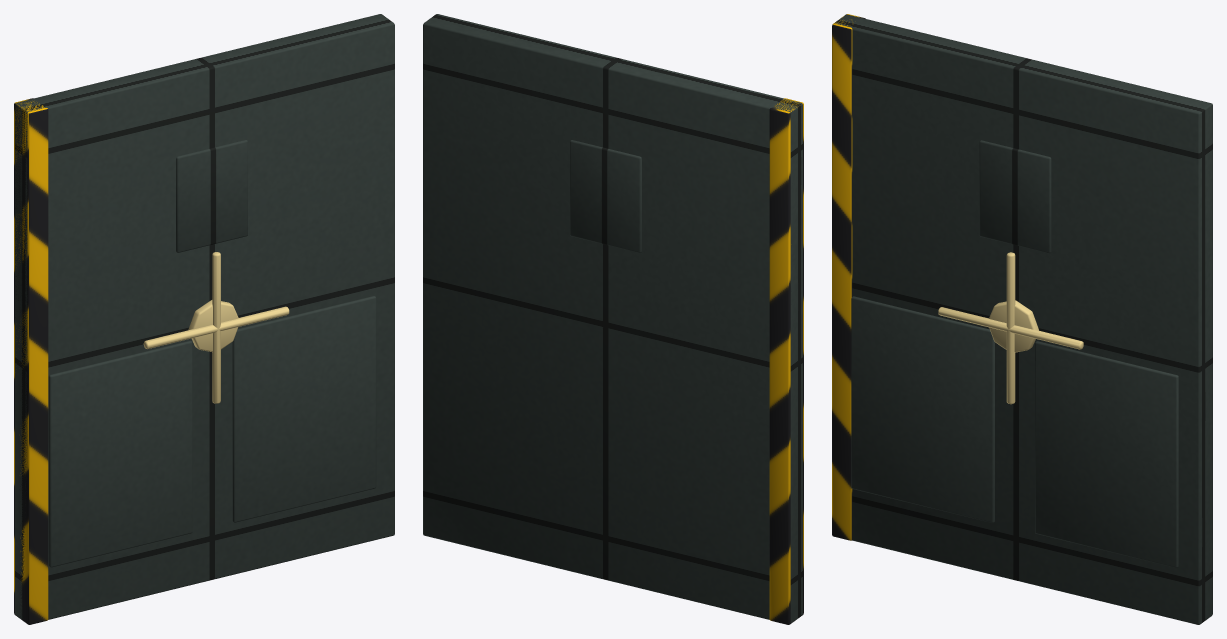
File: WK_DOOR_SLAB_A_01.glb
3 renders of one model, left to right at view 1: azimuth 30°, elevation 25°; view 2: azimuth 150°, elevation 25°; view 3: azimuth 330°, elevation 25°, orthographic.
Visible parts, largest first — view 1: WK_DOOR_SLAB_A_01; view 2: WK_DOOR_SLAB_A_01; view 3: WK_DOOR_SLAB_A_01.
Boxes of the visible parts, bbox=[...] form: WK_DOOR_SLAB_A_01: bbox=[14, 14, 394, 624]; WK_DOOR_SLAB_A_01: bbox=[423, 14, 803, 624]; WK_DOOR_SLAB_A_01: bbox=[832, 14, 1212, 624].
Bounding box in the file's own units: 1.8 × 2.4 × 0.1888.
Materials: 4 (2 with a texture image).
